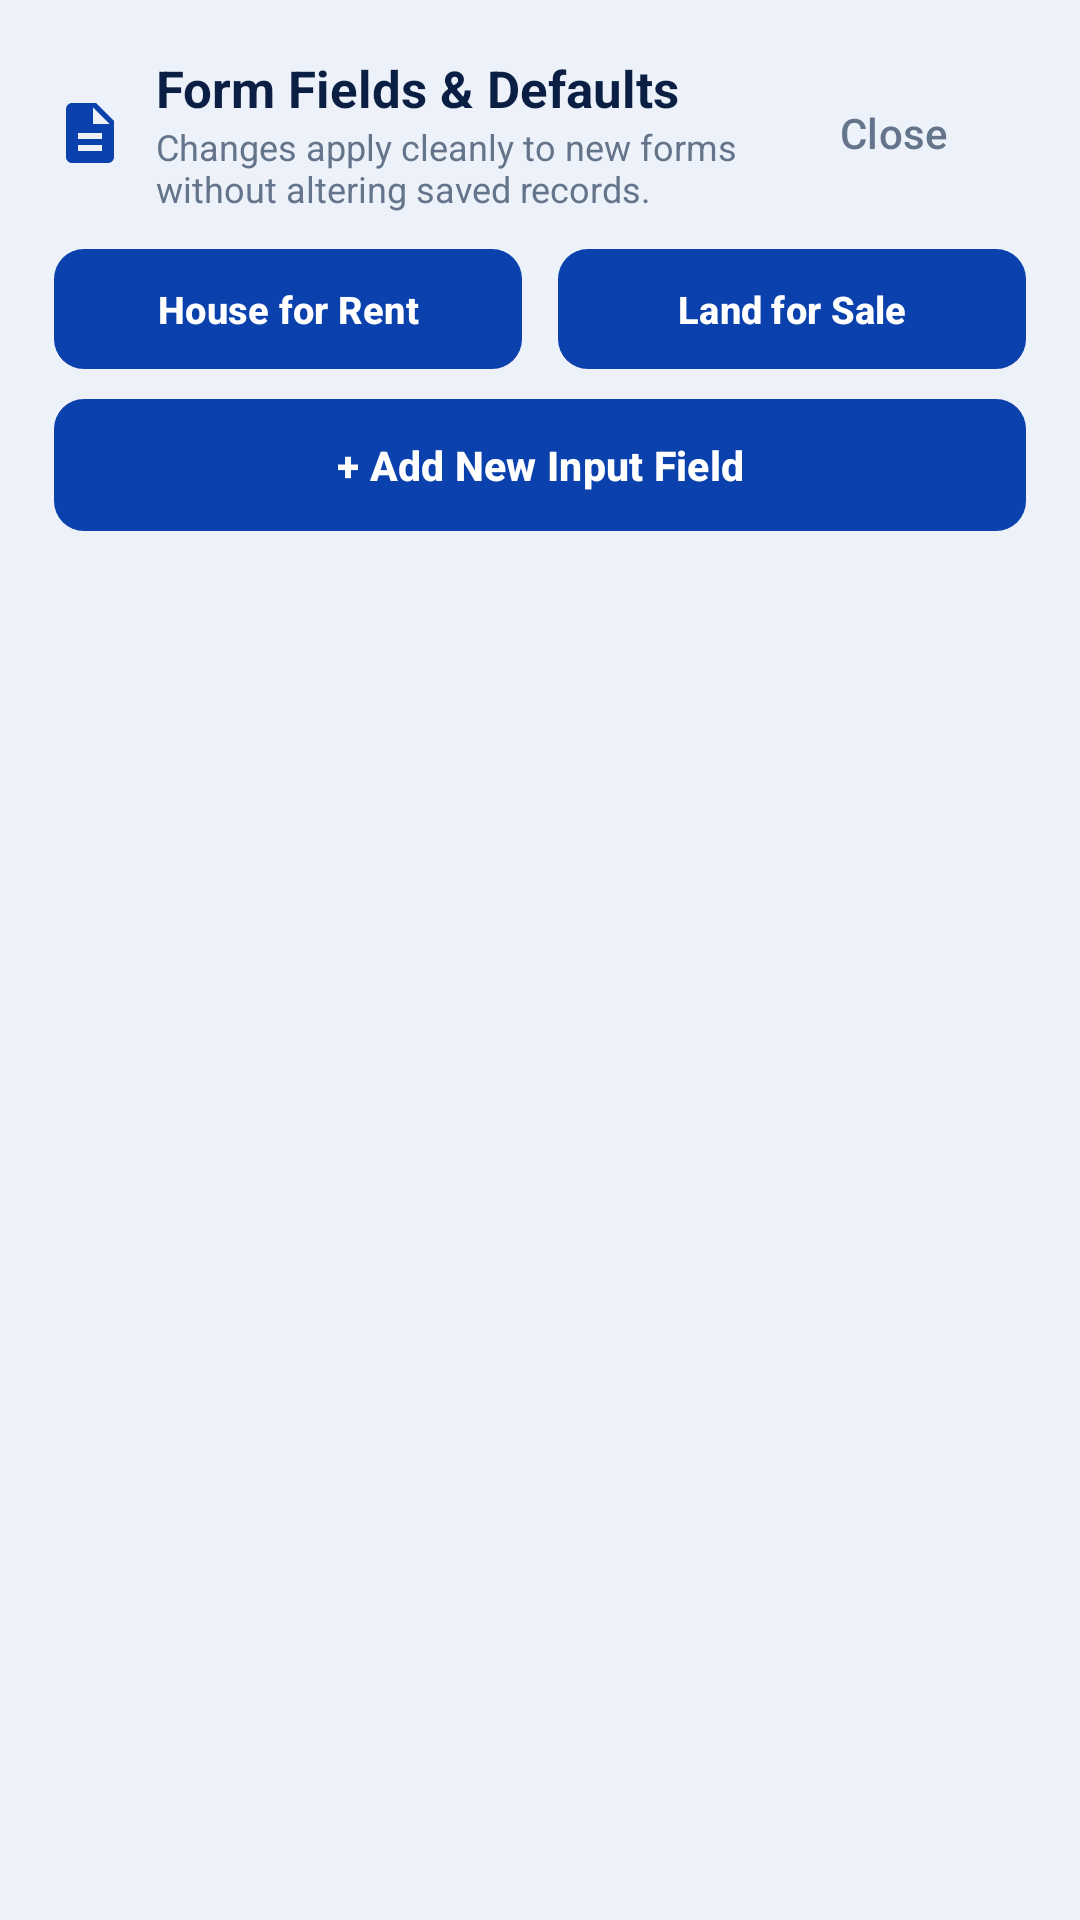

Icons on this 1080*1920 Android screen, each with the point to tap as (x,y):
document: (90,133)
